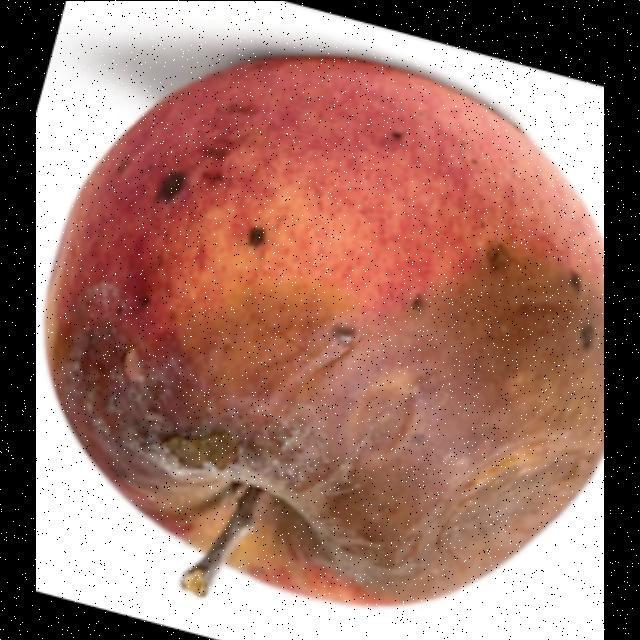Apel Tidak Segar: (36, 45, 604, 618)
